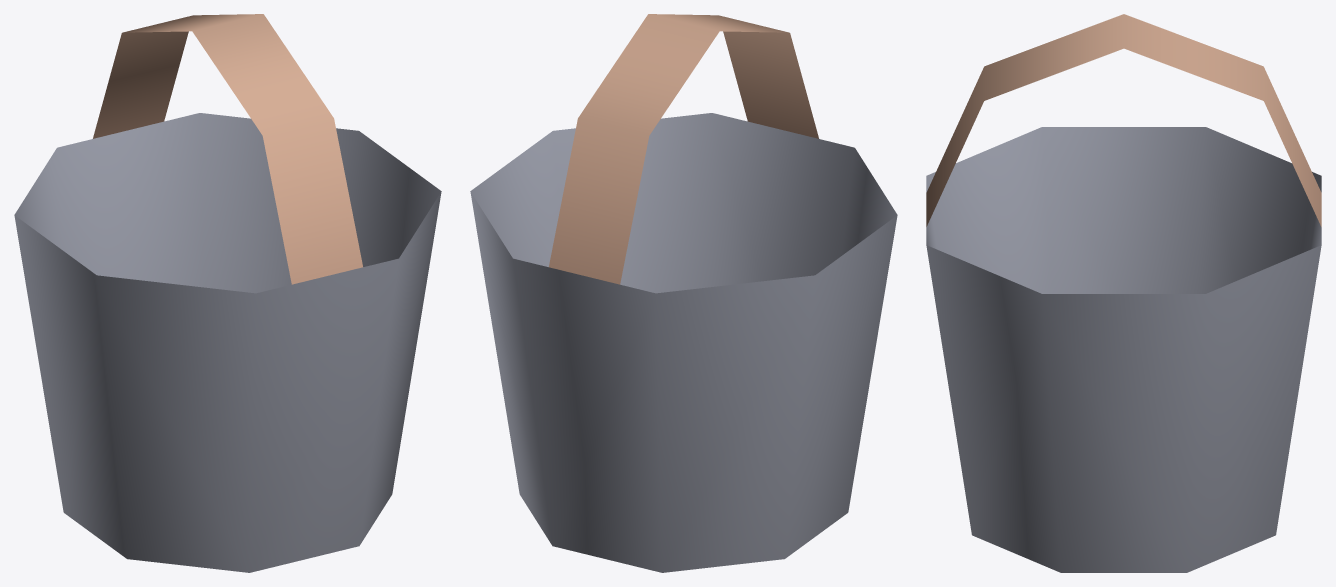
The model's file is bucket.glb.
3 views of the same model, side by side, from view 1: azimuth 30°, elevation 25°; view 2: azimuth 150°, elevation 25°; view 3: azimuth 270°, elevation 25° (orthographic).
Visible parts, largest first — view 1: bucket; view 2: bucket; view 3: bucket.
Boxes of the visible parts, bbox=[...] form: bucket: bbox=[14, 14, 441, 572]; bucket: bbox=[470, 14, 897, 572]; bucket: bbox=[926, 14, 1321, 572].
Bounding box in the file's own units: 0.1441 × 0.1921 × 0.1441.
